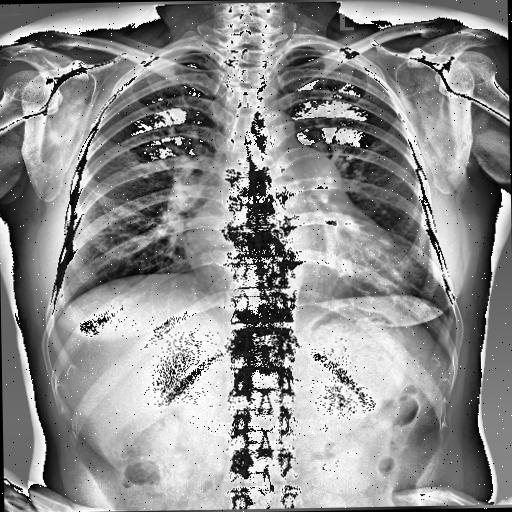3- Cardiomegaly: (179, 211, 418, 298), (182, 209, 414, 298), (182, 222, 426, 302)
7- Lung Opacity: (292, 139, 344, 192)
9- Other lesion: (295, 144, 351, 204), (292, 139, 344, 192)
